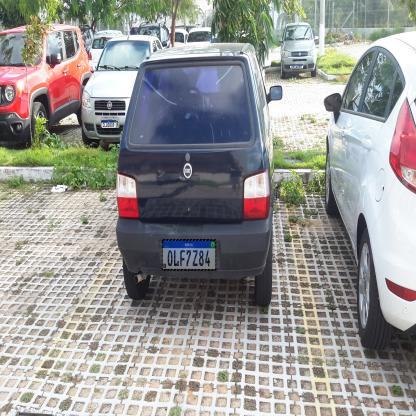PlacaM: (162, 239, 216, 271), (101, 120, 116, 128), (290, 64, 303, 68)
